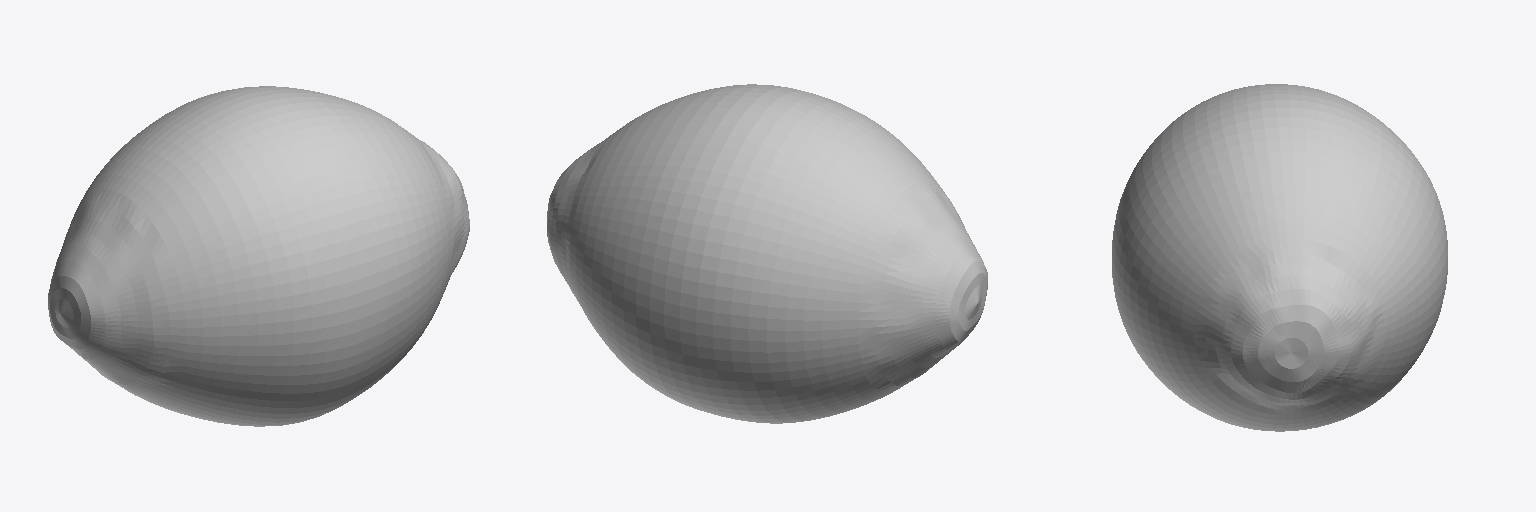
Rendered from lemon.obj.
3 renders of one model, left to right at view 1: azimuth 30°, elevation 25°; view 2: azimuth 150°, elevation 25°; view 3: azimuth 270°, elevation 25°, orthographic.
Parts seen in each view (by area): view 1: Lemon_Whole; view 2: Lemon_Whole; view 3: Lemon_Whole.
Boxes of the visible parts, x1,y1,x2,y2 form: Lemon_Whole: [48, 86, 469, 426]; Lemon_Whole: [547, 84, 987, 423]; Lemon_Whole: [1112, 84, 1447, 431].
Size of the model in its own units: 208 by 150 by 149.